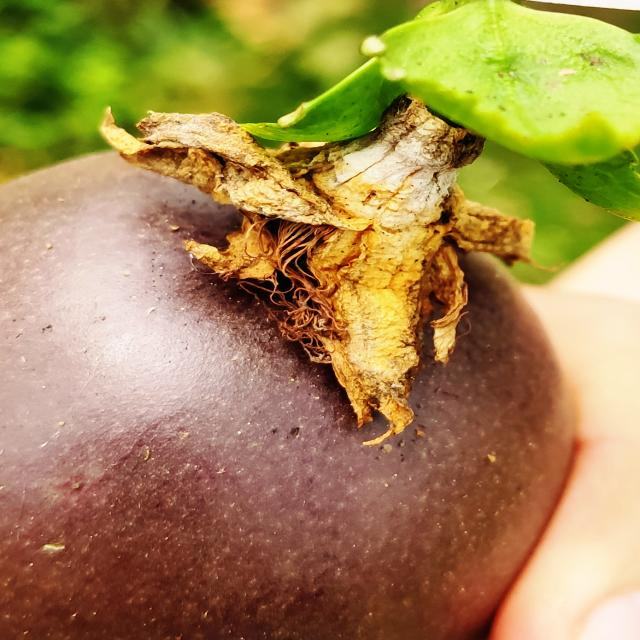Estado-5: (0, 22, 640, 640)
